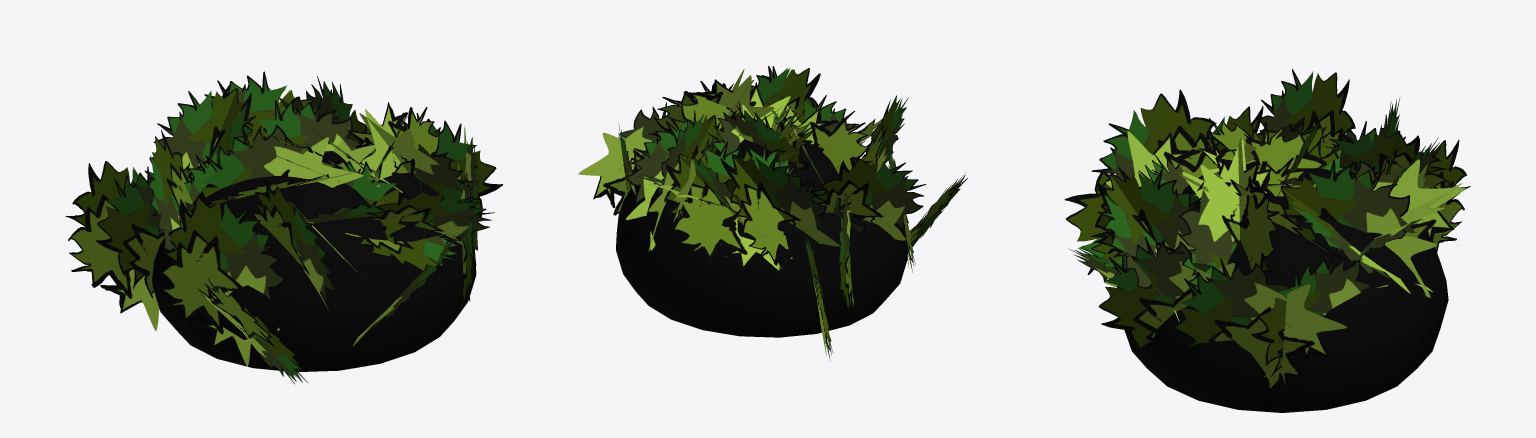
File: Tet_Bush_1.obj
3 renders of one model, left to right at view 1: azimuth 30°, elevation 25°; view 2: azimuth 150°, elevation 25°; view 3: azimuth 270°, elevation 25°, orthographic. The views are drawn at different scales.
Parts seen in each view (by area): view 1: Bush, Bush pPlane5 Leaf15, Bush Leaf15 pPlane9, Bush Leaf2 pPlane6, Bush Leaf15 pPlane8, Bush Leaf11 pPlane6, Bush Leaf7 pPlane6, Bush Leaf5 pPlane6, Bush Leaf4 pPlane6, Bush Leaf15 pPlane6, Bush Leaf pPlane6, Bush Leaf15 pPlane10 (+14 smaller); view 2: Bush, Bush pPlane5 Leaf12, Bush Leaf15 pPlane6, Bush pPlane5 Leaf11, Bush Leaf11 pPlane6, Bush Leaf6 pPlane7, Bush Leaf9 pPlane6, Bush pPlane5 Leaf2, Bush pPlane5 Leaf4, Bush pPlane5 Leaf9, Bush Leaf pPlane6, Bush pPlane5 Leaf3 (+14 smaller); view 3: Bush, Bush Leaf6 pPlane7, Bush pPlane5 Leaf9, Bush pPlane5 Leaf6, Bush Leaf4 pPlane6, Bush Leaf7 pPlane6, Bush pPlane5 Leaf5, Bush Leaf17 pPlane6, Bush Leaf15 pPlane6, Bush pPlane5 Leaf11, Bush pPlane5 Leaf4, Bush pPlane5 Leaf10 (+17 smaller).
Part boxes in pixels (x1,y1,x2,y2): Bush: (152,151,476,371); Bush pPlane5 Leaf15: (157,196,285,366); Bush Leaf15 pPlane9: (65,161,159,330); Bush Leaf2 pPlane6: (200,125,363,197); Bush Leaf15 pPlane8: (95,166,194,298); Bush Leaf11 pPlane6: (149,88,252,180); Bush Leaf7 pPlane6: (250,177,336,310); Bush Leaf5 pPlane6: (364,191,494,244); Bush Leaf4 pPlane6: (347,113,476,208); Bush Leaf15 pPlane6: (144,130,192,251); Bush Leaf pPlane6: (236,98,357,151); Bush Leaf15 pPlane10: (197,278,307,383); Bush: (616,128,907,337); Bush pPlane5 Leaf12: (662,141,779,270); Bush Leaf15 pPlane6: (814,158,926,240); Bush pPlane5 Leaf11: (723,142,802,276); Bush Leaf11 pPlane6: (720,154,839,246); Bush Leaf6 pPlane7: (578,102,668,215); Bush Leaf9 pPlane6: (625,115,724,250); Bush pPlane5 Leaf2: (785,106,873,174); Bush pPlane5 Leaf4: (648,75,774,136); Bush pPlane5 Leaf9: (648,110,720,251); Bush Leaf pPlane6: (723,105,810,170); Bush pPlane5 Leaf3: (664,81,790,131); Bush: (1117,168,1448,412); Bush Leaf6 pPlane7: (1174,258,1347,394); Bush pPlane5 Leaf9: (1269,160,1436,297); Bush pPlane5 Leaf6: (1098,236,1234,362); Bush Leaf4 pPlane6: (1174,139,1281,300); Bush Leaf7 pPlane6: (1091,89,1220,210); Bush pPlane5 Leaf5: (1093,169,1201,279); Bush Leaf17 pPlane6: (1251,252,1388,383); Bush Leaf15 pPlane6: (1260,69,1355,145); Bush pPlane5 Leaf11: (1322,132,1449,188); Bush pPlane5 Leaf4: (1216,138,1279,273); Bush pPlane5 Leaf10: (1324,159,1465,264).
Bounding box in the file's own units: 58.69 × 46.25 × 60.1.
2 materials, 1 textured.
